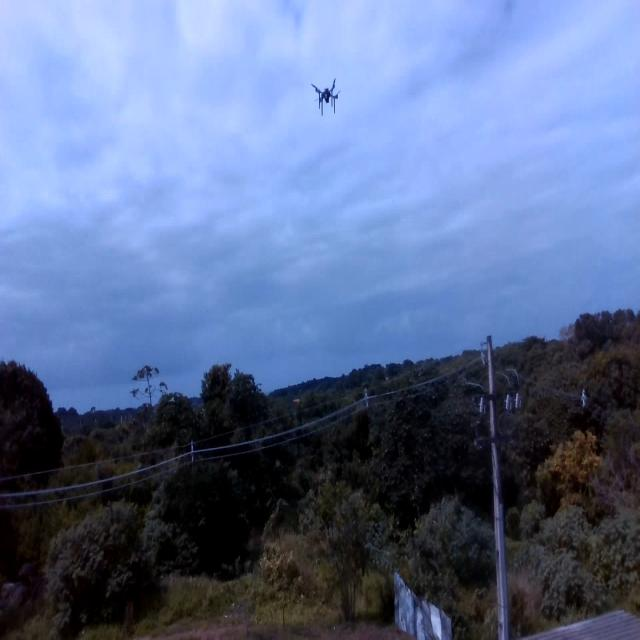-uav-: (305, 66, 346, 124)
